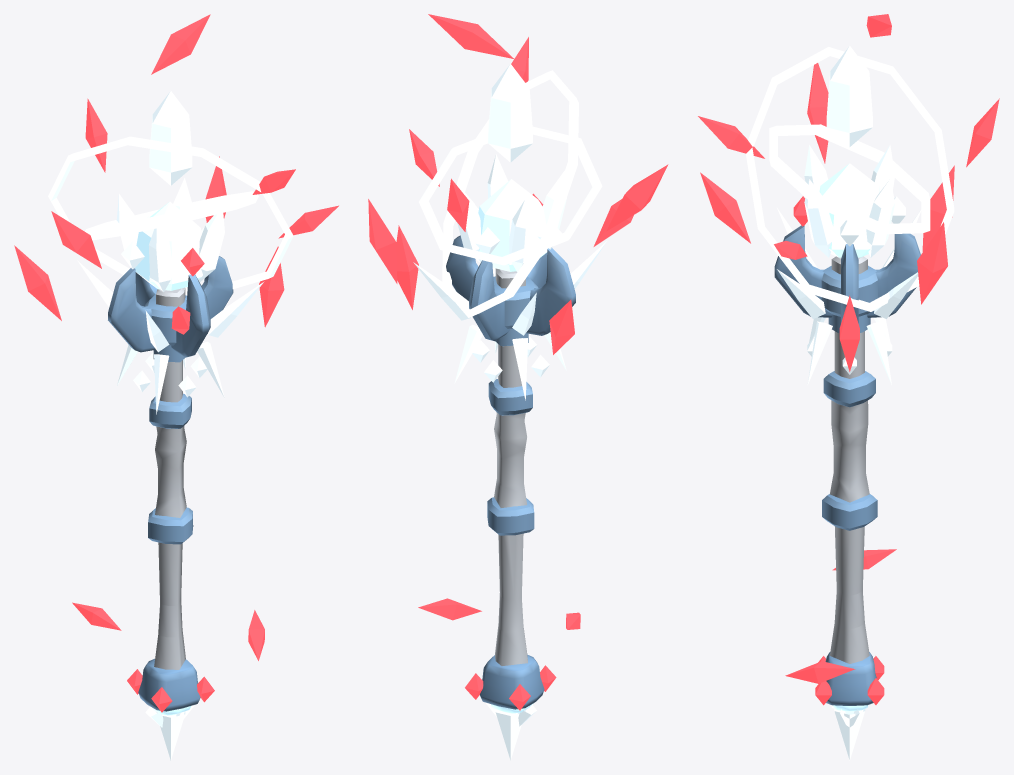
Rendered from staff_ice_mythic.glb.
The picture shows the model from 3 angles, left to right: view 1: azimuth 30°, elevation 25°; view 2: azimuth 150°, elevation 25°; view 3: azimuth 270°, elevation 25°; orthographic projection. The views are drawn at different scales.
Visible parts, largest first — view 1: staff_ice_mythic; view 2: staff_ice_mythic; view 3: staff_ice_mythic.
Part boxes in pixels (bbox=[...]): staff_ice_mythic: bbox=[14, 14, 338, 760]; staff_ice_mythic: bbox=[368, 14, 668, 760]; staff_ice_mythic: bbox=[698, 14, 999, 760].
Size of the model in its own units: 112 by 286 by 102.
Materials: 6 (2 with a texture image).
